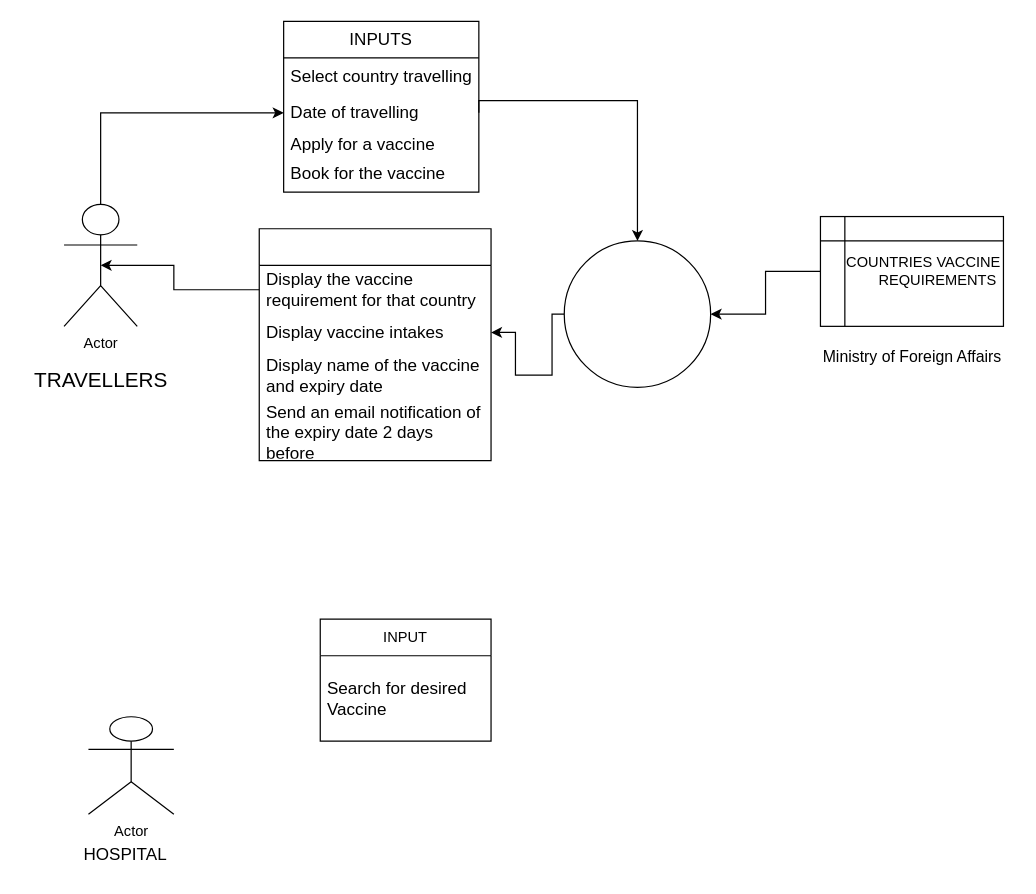
Image size: 1036x894. Some labels were removed from this diagram. The box of each missing label's shape, as (x1, y1, x2, y2) in pixels:
OUTPUTS: (258, 228, 491, 461)
SYSTEM: (563, 240, 711, 387)
